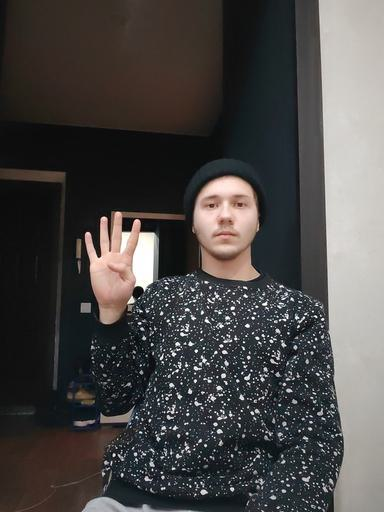four: (82, 209, 144, 311)
